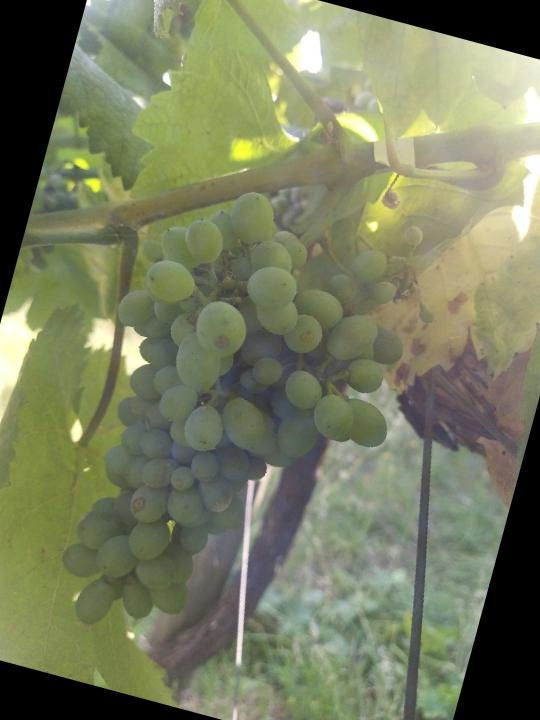grape: (29, 148, 451, 698)
